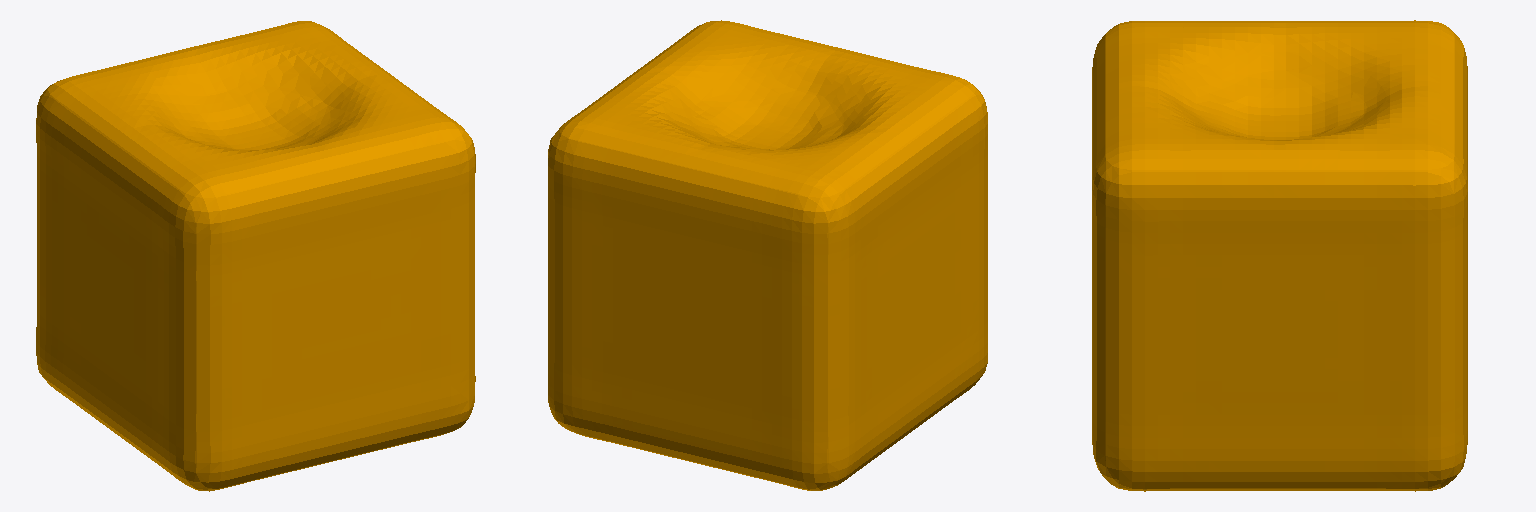
The robot description file, URDF, robot "K01_1":
<?xml version="1.0"?>
<robot name="K01_1">
  <link name="base_link">
    <inertial>
      <mass value="0.07632" />
      <origin xyz="0 0 0" />
      <inertia  ixx="0.0002" ixy="0.0"  ixz="0.0"  iyy="0.0002"  iyz="0.0" izz="0.0002" />
    </inertial>
    <visual>
      <geometry>
        <mesh filename="../../../meshes/egad/train/K01_1.obj" />
      </geometry>
    </visual>
    <collision>
      <geometry>
        <mesh filename="../../../meshes/egad/train/K01_1.obj" />
      </geometry>
    </collision>
  </link>
</robot>

--- What the picture shows (computed from the rendered views, not written in the file) ---
The picture shows the robot from 3 angles, left to right: view 1: azimuth 30°, elevation 25°; view 2: azimuth 150°, elevation 25°; view 3: azimuth 270°, elevation 25°; orthographic projection.
Model K01_1 with 1 links and 0 joints (none), rooted at base_link, posed all joints at 0.
Links seen in each view (by area): view 1: base_link; view 2: base_link; view 3: base_link.
Boxes of the visible links, <box> form: base_link: <box>36,21,475,491</box>; base_link: <box>548,20,987,490</box>; base_link: <box>1092,20,1467,491</box>.
Bounding box of the posed robot: 0.06 × 0.06 × 0.06 m (x, y, z).
Meshes: 1 distinct files referenced, 1 mesh visuals loaded (1 OBJ).